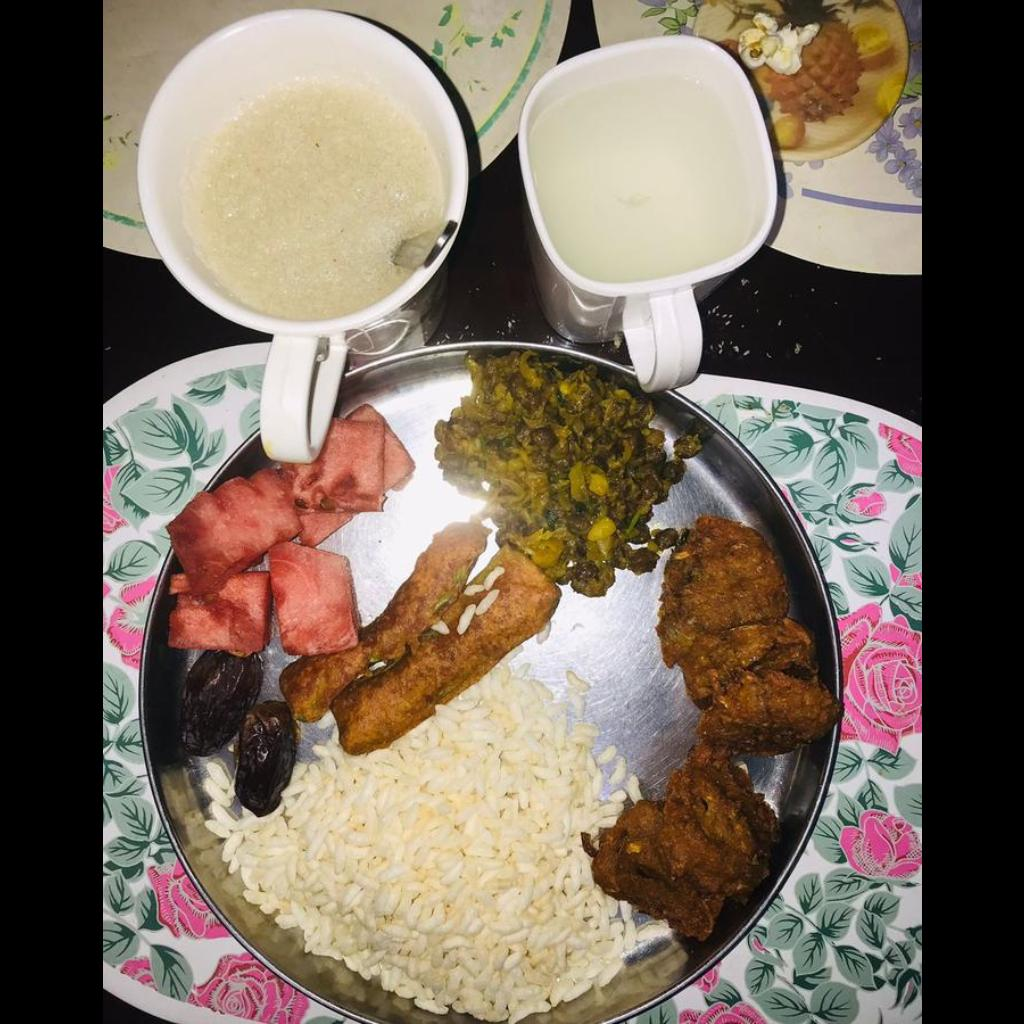beguni: (285, 522, 555, 748)
chola: (440, 357, 685, 588)
dates: (168, 663, 293, 813)
juice: (179, 80, 443, 321)
peyaju: (591, 514, 852, 943)
puffed-rice: (217, 677, 630, 1019)
watermelon: (168, 409, 404, 643)
